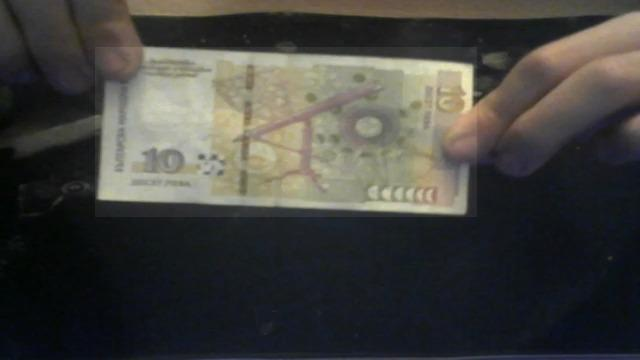10leva: (95, 47, 477, 217)
